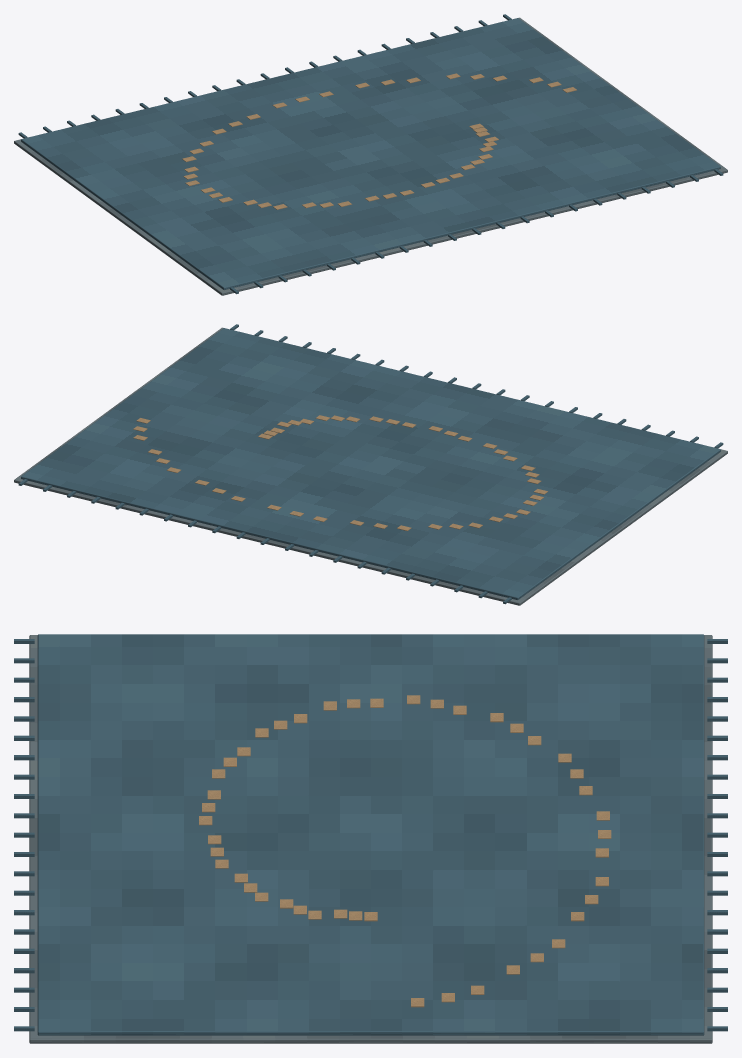
Rendered from lounge_rug01.glb.
3 renders of one model, top to bottom at view 1: azimuth 30°, elevation 25°; view 2: azimuth 150°, elevation 25°; view 3: azimuth 270°, elevation 25°, orthographic. The views are drawn at different scales.
Parts seen in each view (by area): view 1: pile, backing, pattern, fringe; view 2: pile, backing, pattern, fringe; view 3: pile, backing, pattern, fringe.
Part boxes in pixels (bbox=[...]): pile: bbox=[21, 18, 720, 289]; backing: bbox=[14, 17, 727, 295]; pattern: bbox=[182, 73, 576, 209]; fringe: bbox=[18, 14, 723, 294]; pile: bbox=[21, 328, 720, 599]; backing: bbox=[14, 327, 727, 605]; pattern: bbox=[133, 415, 548, 530]; fringe: bbox=[18, 324, 723, 604]; pile: bbox=[37, 634, 704, 1035]; backing: bbox=[29, 635, 712, 1043]; pattern: bbox=[199, 695, 611, 1007]; fringe: bbox=[14, 639, 727, 1031].
Bounding box in the file's own units: 2.3 × 0.0265 × 1.71.
Materials: 3 (3 with a texture image).
